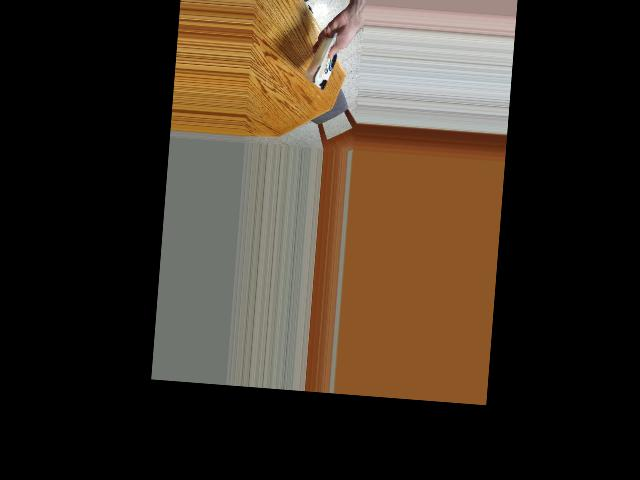cheese: (302, 35, 348, 89)
